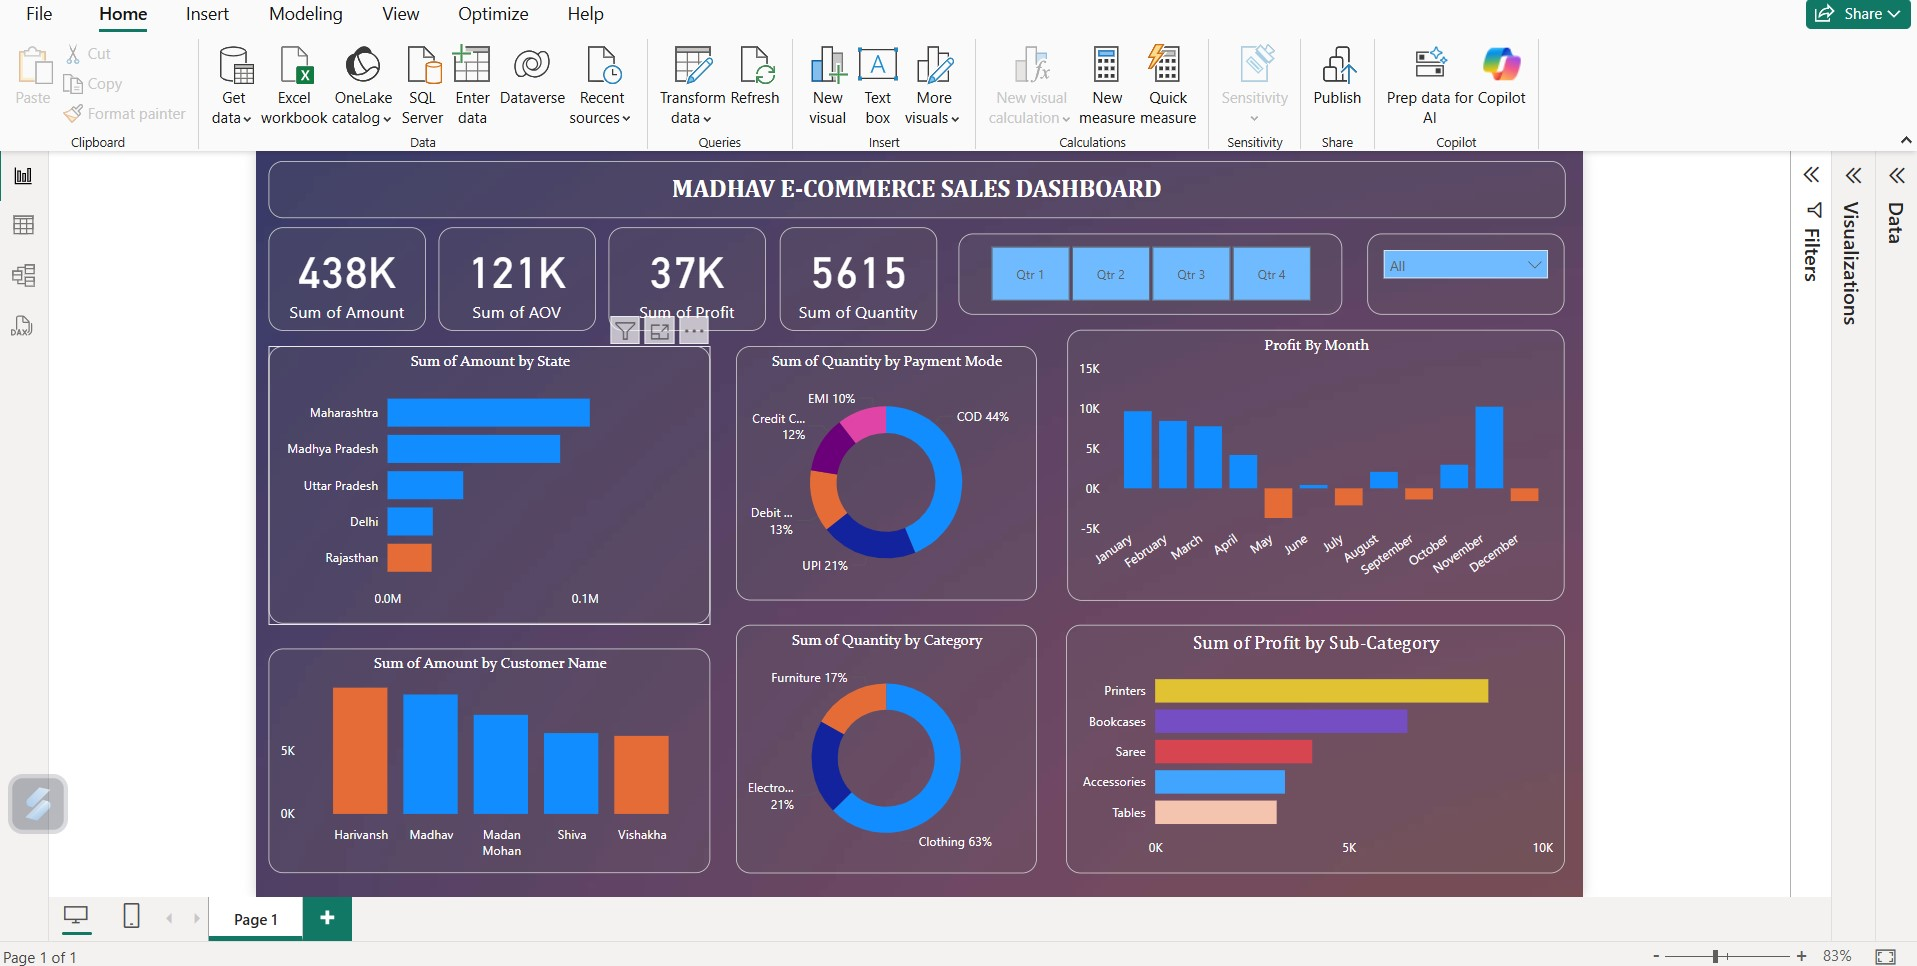

The dashboard page shown, as its layout file describes it:
{"tool":"powerbi","page":{"name":"Page 1","canvas":[1280,720],"ordinal":0},"visuals":[{"type":"textbox","box":[11.7,10,1251.7,55],"z":0},{"type":"columnChart","title":"Profit By Month ","fields":{"Category":["Orders.Order Date.Variation.Date Hierarchy.Month"],"Y":["Details.Profit"]},"box":[782.9,172.9,480,261.4],"z":1000},{"type":"barChart","fields":{"Category":["Details.Sub-Category"],"Y":["Details.Profit"]},"box":[781.4,457.1,481.4,240],"z":2000},{"type":"donutChart","fields":{"Category":["Details.Category"],"Y":["Details.Quantity"]},"box":[462.9,457.1,290,240],"z":3000},{"type":"donutChart","title":"Sum of Quantity by Payment Mode","fields":{"Category":["Details.PaymentMode"],"Y":["Details.Quantity"]},"box":[462.9,188.6,290,245.7],"z":4000},{"type":"card","fields":{"Values":["Details.Amount"]},"box":[11.7,73.3,151.7,100],"z":5000},{"type":"card","fields":{"Values":["Details.Quantity"]},"box":[505,73.3,151.7,100],"z":6000},{"type":"card","fields":{"Values":["Details.Profit"]},"box":[340,73.3,151.7,100],"z":7000},{"type":"card","fields":{"Values":["Details.AOV"]},"box":[176.7,73.3,151.7,100],"z":8000},{"type":"barChart","fields":{"Y":["Details.Amount"],"Category":["Orders.State"]},"box":[11.7,188.3,426.7,268.3],"z":9000},{"type":"columnChart","title":"Sum of Amount by Customer Name","fields":{"Category":["Orders.CustomerName"],"Y":["Details.Amount"]},"box":[11.7,480,426.7,216.7],"z":10000},{"type":"slicer","fields":{"Values":["Orders.Order Date.Variation.Date Hierarchy.Quarter"]},"box":[678,80,370,78],"z":11000},{"type":"slicer","fields":{"Values":["Orders.State"]},"box":[1072,80,190,78],"z":12000}]}

Visuals, with their boxes on the page's 1280x720 design canvas (x1, y1, x2, y2). These are canvas units, not pixel positions in the 1917x966 screenshot, which may show the page scaled, cropped or inside an application window:
textbox: 12 10 1263 65
"Profit By Month " columnChart: 783 173 1263 434
barChart - Details.Sub-Category x Details.Profit: 781 457 1263 697
donutChart - Details.Category x Details.Quantity: 463 457 753 697
"Sum of Quantity by Payment Mode" donutChart: 463 189 753 434
card - Details.Amount: 12 73 163 173
card - Details.Quantity: 505 73 657 173
card - Details.Profit: 340 73 492 173
card - Details.AOV: 177 73 328 173
barChart - Details.Amount x Orders.State: 12 188 438 457
"Sum of Amount by Customer Name" columnChart: 12 480 438 697
slicer - Orders.Order Date.Variation.Date Hierarchy.Quarter: 678 80 1048 158
slicer - Orders.State: 1072 80 1262 158
